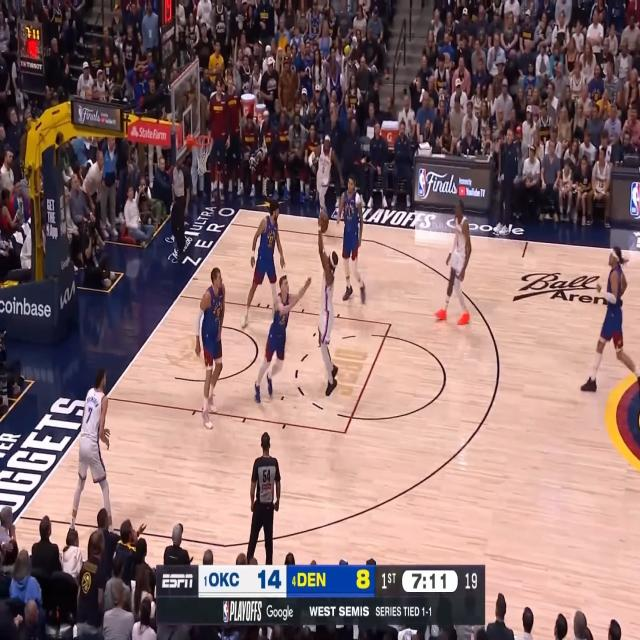ball: (318, 211, 329, 233)
number: (85, 406, 93, 424), (216, 306, 221, 318), (269, 234, 274, 244), (322, 165, 326, 175), (348, 207, 351, 217)
player: (580, 246, 640, 393), (69, 367, 114, 532), (241, 199, 285, 331), (194, 266, 226, 433), (432, 198, 472, 325), (336, 173, 366, 304), (308, 133, 343, 238)
player-jump-shot: (316, 208, 339, 397)
player-shot-block: (254, 273, 312, 404)
referee: (247, 431, 281, 564), (170, 160, 190, 264)
rim: (193, 134, 214, 147)
